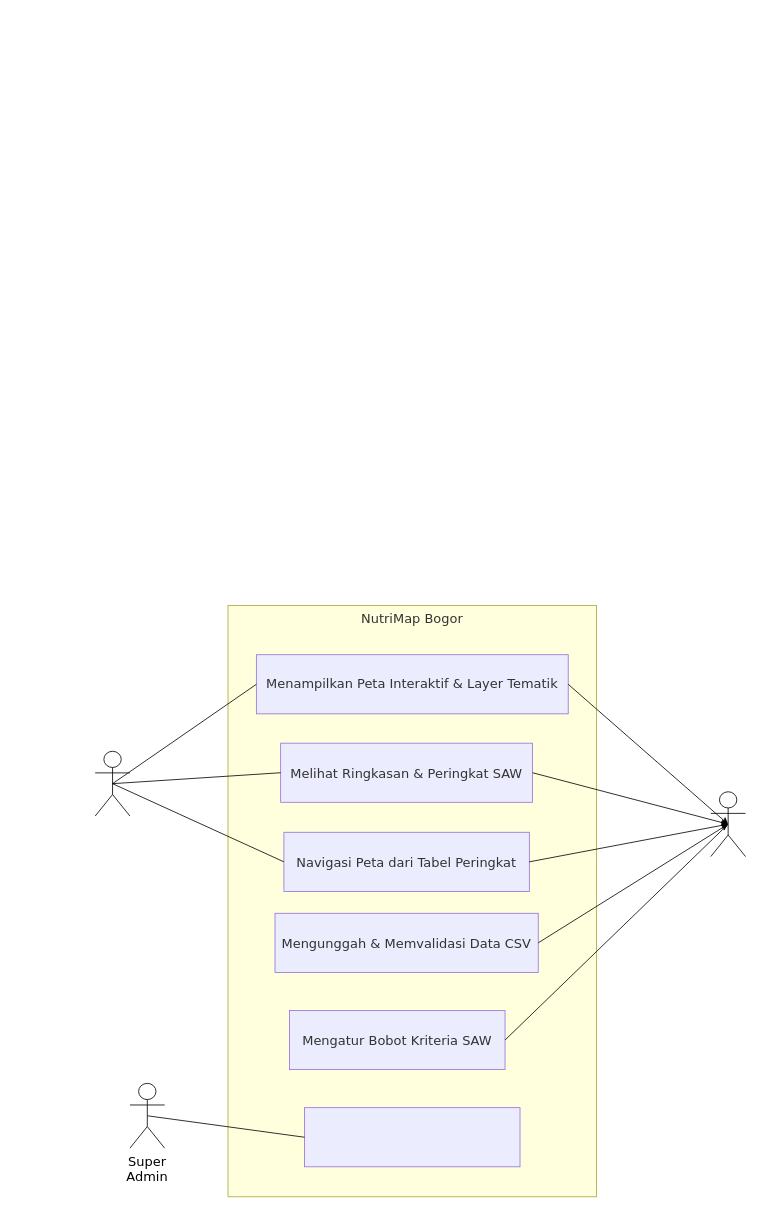
This 773x1211 diagram has some shape labels left out. Here are the shapes that lost their labels. From the top down, the centre of each, then its label:
At (x=112, y=783): "Publik / Akademisi".
At (x=728, y=824): "Admin (Dinas / Bappeda)".
At (x=412, y=1137): "mengatur Akun admin".
